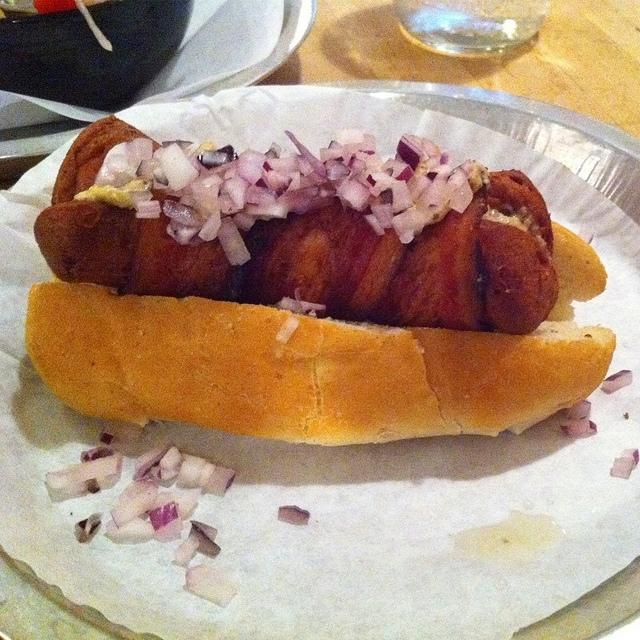onion: (392, 178, 451, 244), (46, 454, 118, 488), (284, 130, 328, 181), (185, 563, 237, 605), (108, 486, 158, 529), (94, 143, 140, 188), (160, 141, 200, 191), (396, 134, 438, 174), (217, 217, 250, 266), (277, 289, 326, 319), (146, 500, 182, 540), (190, 172, 224, 213), (176, 454, 216, 488), (444, 158, 472, 206), (106, 516, 154, 544), (163, 200, 209, 228), (188, 520, 221, 557), (202, 464, 236, 498), (338, 177, 373, 210), (276, 187, 318, 214), (134, 448, 168, 481), (136, 158, 168, 190), (166, 218, 202, 246), (74, 512, 102, 544), (174, 534, 199, 569), (242, 202, 290, 220), (237, 156, 266, 185), (261, 170, 292, 197), (119, 481, 155, 504), (449, 181, 474, 214), (198, 208, 222, 242), (600, 370, 634, 394), (381, 158, 414, 182), (392, 180, 415, 213), (407, 174, 432, 204), (278, 504, 312, 526), (319, 140, 345, 166), (558, 399, 590, 420), (246, 183, 278, 204), (276, 317, 300, 344), (560, 420, 596, 436), (159, 446, 182, 471), (425, 154, 445, 181), (325, 160, 350, 180), (612, 457, 634, 479), (266, 156, 296, 172), (232, 212, 256, 232), (336, 130, 366, 146), (202, 150, 230, 166), (305, 170, 331, 186), (364, 154, 384, 174), (432, 164, 453, 182), (621, 448, 639, 469), (366, 172, 392, 186), (222, 164, 242, 180), (286, 171, 300, 193), (138, 201, 162, 213), (342, 150, 357, 168), (100, 428, 116, 444), (318, 184, 336, 198), (268, 140, 282, 158), (378, 188, 392, 205), (181, 184, 192, 195)
